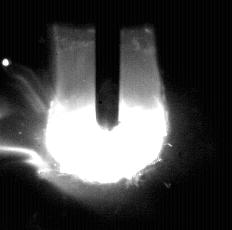arame: (96, 0, 120, 131)
poca: (45, 0, 167, 230)
